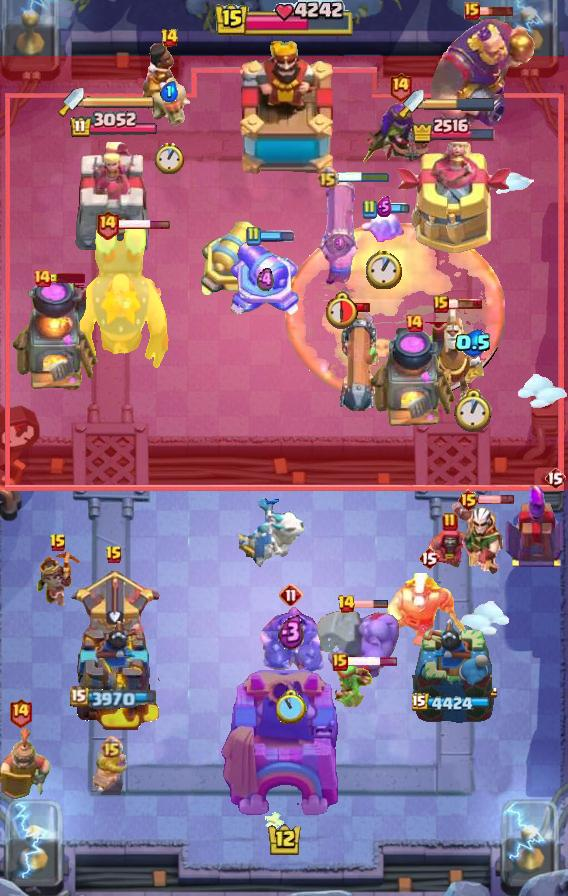archer-queen: (313, 606, 403, 684)
bar: (394, 142, 512, 256), (73, 140, 155, 256)
barbarian-hut: (357, 99, 443, 171)
battle-healer: (335, 306, 383, 418), (317, 182, 363, 286)
bomber-evolution: (36, 549, 81, 607)
bowler: (425, 524, 475, 574)
clock: (213, 0, 355, 40)
earthquake: (0, 725, 50, 801)
electro-spirit: (455, 329, 493, 357), (279, 614, 306, 650), (257, 267, 275, 293), (160, 82, 178, 103), (376, 196, 392, 217), (333, 234, 347, 252)
elite-barbarian: (141, 42, 197, 130)
elixir: (454, 389, 492, 433), (366, 249, 402, 289), (322, 290, 358, 329), (277, 690, 308, 724), (156, 142, 185, 174)
elixir-collector: (425, 307, 481, 403)
emote: (337, 172, 390, 185), (117, 218, 171, 230), (346, 656, 399, 667), (477, 5, 514, 17), (259, 230, 295, 242), (447, 298, 483, 310), (477, 495, 514, 506), (375, 203, 410, 214), (49, 273, 85, 283), (353, 599, 389, 609), (352, 302, 372, 314)
giant-snowball: (333, 661, 375, 707)
goblin-giant: (93, 749, 129, 795)
goblin-hut: (385, 573, 473, 649)
heal-spirit: (460, 353, 486, 385)
hunter: (369, 322, 459, 430), (11, 283, 99, 393)
ice-spirit-evolution-symbol: (504, 482, 568, 570)
king-tower: (219, 670, 349, 826), (228, 41, 340, 181)
king-tower-bar: (84, 95, 156, 109), (424, 97, 496, 111)
lava-pup: (68, 569, 160, 651)
lightning: (427, 15, 538, 127)
little-prince: (69, 223, 173, 371)
mini-pekka: (239, 497, 309, 569)
mirror: (359, 210, 409, 248)
phoenix-egg: (285, 222, 505, 401)
queen-tower: (66, 617, 162, 731), (409, 616, 497, 731)
royal-guardian: (256, 604, 326, 678)
royal-recruit: (227, 239, 303, 323), (198, 218, 270, 300)
selected: (69, 111, 159, 139), (410, 115, 496, 144), (69, 686, 158, 710), (412, 693, 494, 714)
skeleton-king: (449, 501, 517, 577)
text: (387, 70, 412, 101), (7, 697, 32, 728), (96, 209, 121, 239), (279, 583, 303, 607), (457, 488, 480, 512), (317, 167, 340, 190), (100, 736, 123, 759), (544, 466, 566, 490), (418, 546, 440, 570), (32, 268, 52, 288), (404, 313, 424, 333), (336, 594, 356, 614), (161, 28, 180, 48), (49, 533, 67, 553), (105, 545, 123, 565), (361, 199, 377, 219), (245, 226, 261, 246), (442, 512, 458, 532), (464, 2, 480, 20), (433, 295, 449, 313), (332, 653, 348, 671)
